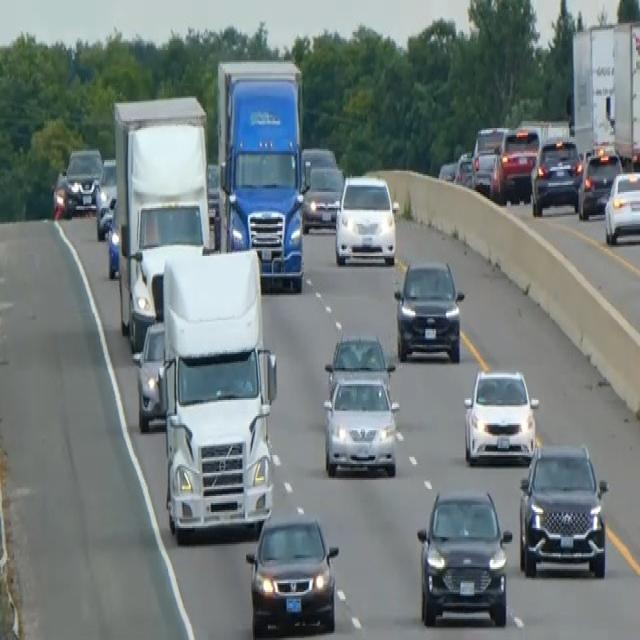car: (416, 487, 512, 628), (517, 441, 609, 578), (245, 511, 339, 636), (322, 372, 399, 476), (462, 366, 539, 464), (393, 258, 464, 362), (333, 172, 398, 266), (324, 330, 394, 394), (530, 133, 582, 215), (131, 318, 167, 432), (489, 126, 539, 203), (577, 144, 622, 219), (302, 164, 344, 231), (604, 167, 639, 245), (470, 124, 509, 194), (63, 146, 102, 213), (301, 144, 336, 188), (51, 167, 71, 219), (453, 150, 473, 188)
lorry: (158, 244, 278, 542), (112, 92, 213, 350), (215, 55, 307, 293)
